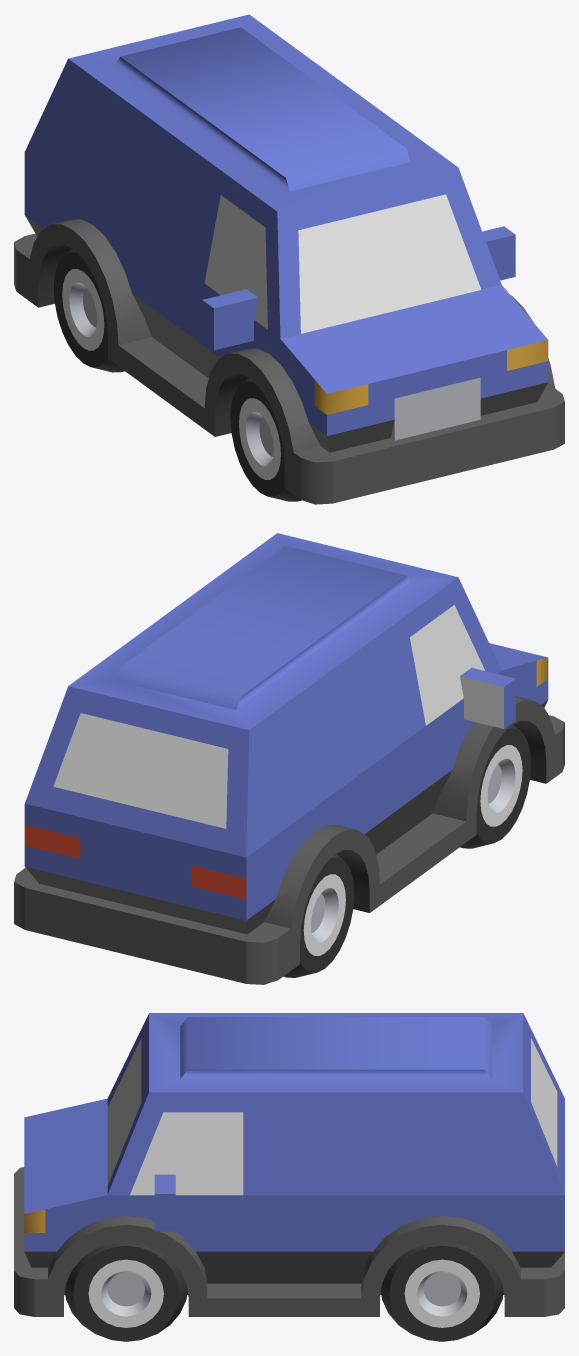
The model's file is van.obj.
3 views of the same model, one above another, from view 1: azimuth 30°, elevation 25°; view 2: azimuth 150°, elevation 25°; view 3: azimuth 270°, elevation 25° (orthographic). The views are drawn at different scales.
Visible parts, largest first — view 1: body, wheel_frontRight, wheel_backRight; view 2: body, wheel_frontRight, wheel_backRight; view 3: body, wheel_backLeft, wheel_frontLeft.
Boxes of the visible parts, left/top/right/bottom form: body: left=14, top=14, right=564, bottom=504; wheel_frontRight: left=230, top=377, right=301, bottom=501; wheel_backRight: left=53, top=248, right=124, bottom=372; body: left=14, top=533, right=564, bottom=984; wheel_frontRight: left=460, top=724, right=530, bottom=848; wheel_backRight: left=283, top=853, right=354, bottom=977; body: left=14, top=1013, right=564, bottom=1316; wheel_backLeft: left=381, top=1241, right=503, bottom=1341; wheel_frontLeft: left=65, top=1241, right=187, bottom=1341.
Size of the model in its own units: 1.5 by 1.35 by 2.65.
